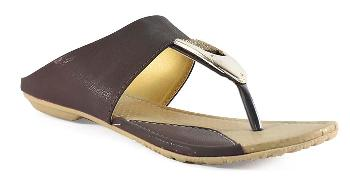Footwear: (16, 11, 341, 168)
